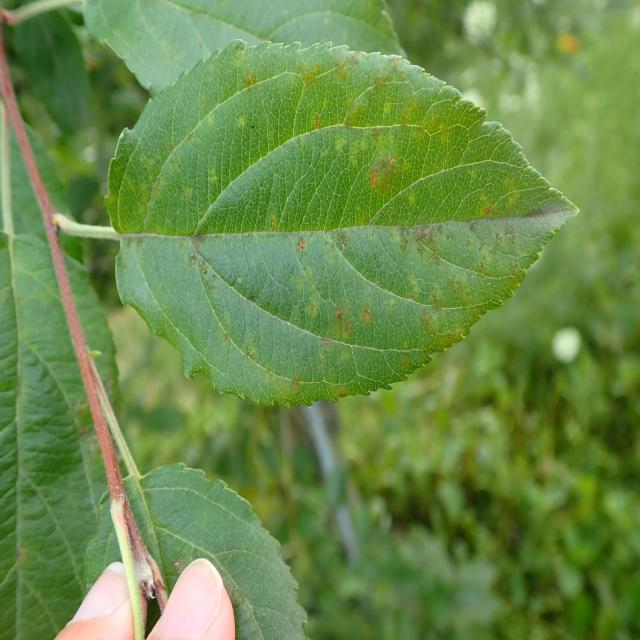scab: (92, 49, 570, 400)
